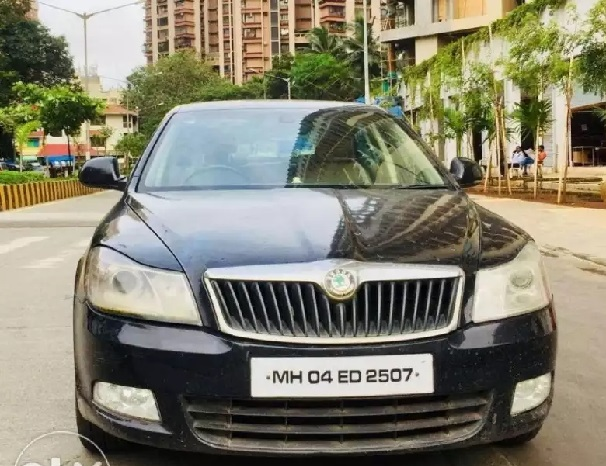licenseplate: (251, 355, 439, 397)
